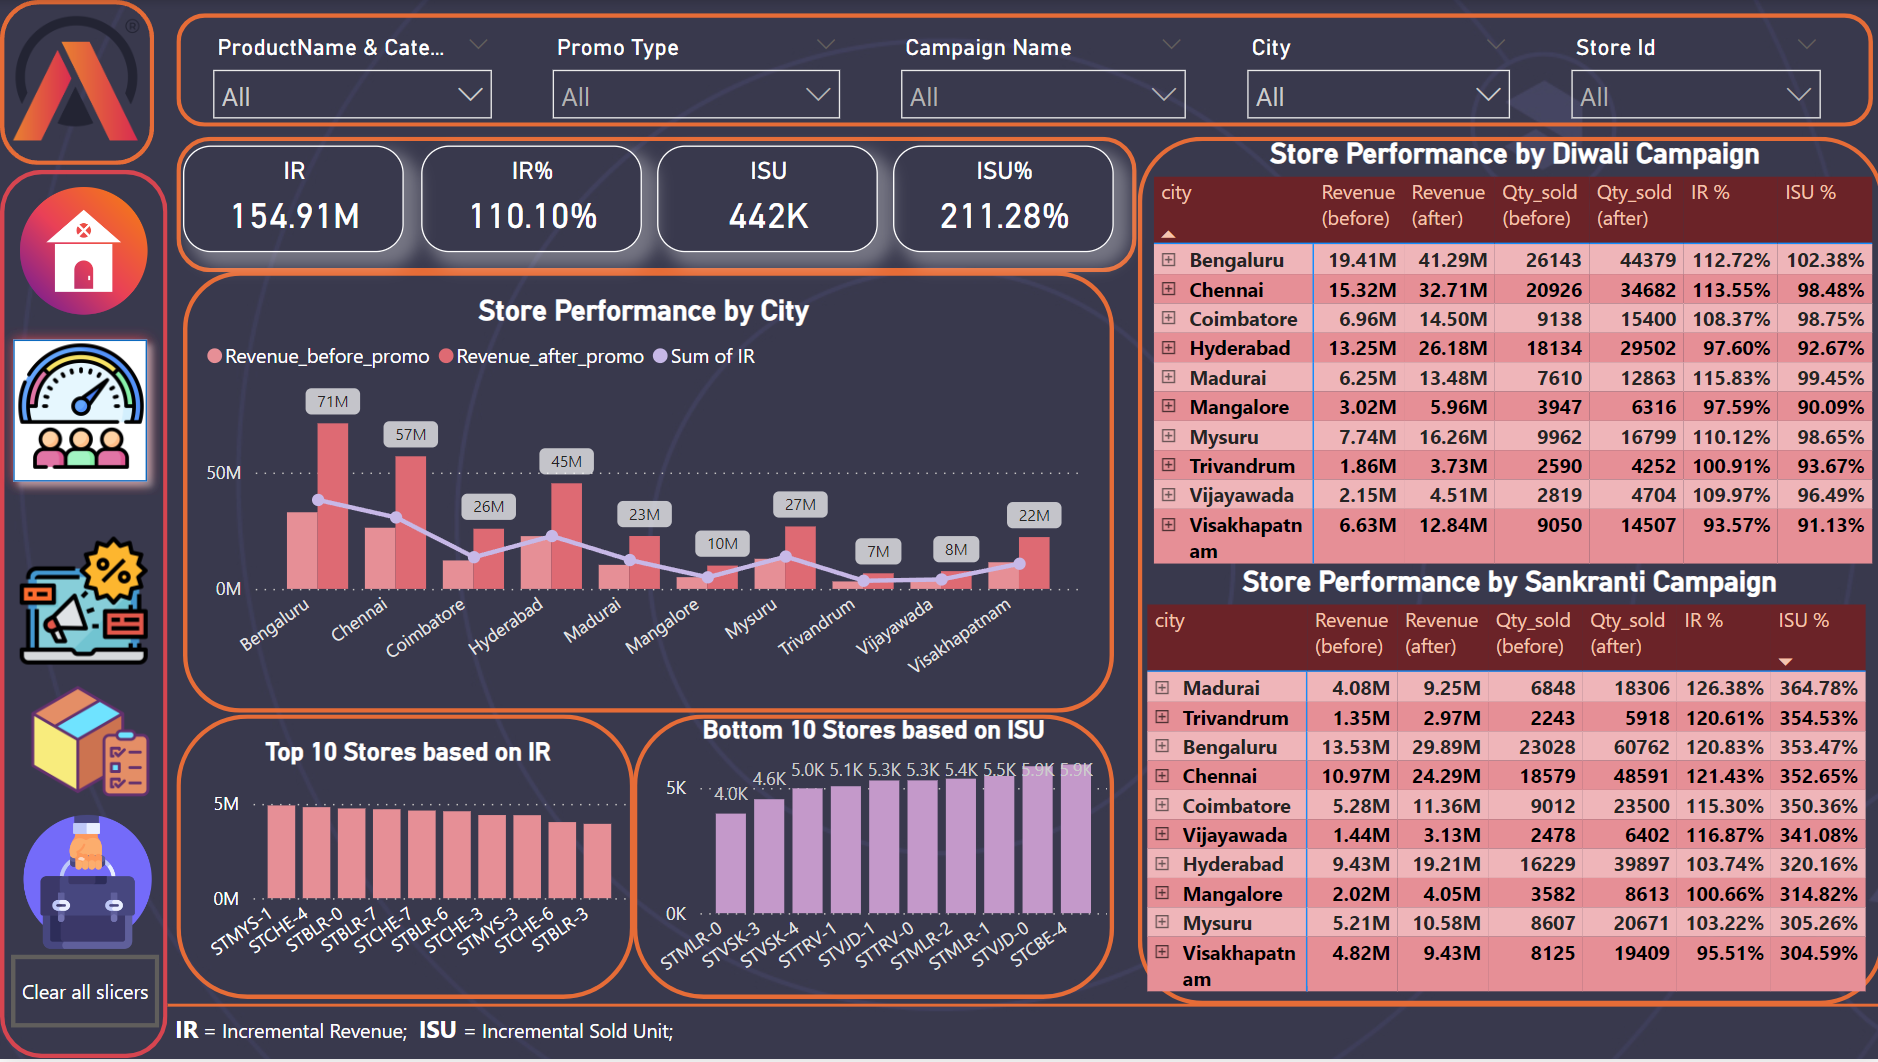

The page's visual inventory and layout, read from the dashboard file:
{"tool":"powerbi","page":{"name":"Store Performance Analysis","canvas":[1280,720],"ordinal":1},"visuals":[{"type":"shape","box":[773.2,92.5,507.6,590.6],"z":0},{"type":"shape","box":[430.6,486.3,327.3,193.5],"z":1000},{"type":"shape","box":[0,115.8,113.9,604.1],"z":2000},{"type":"shape","box":[119.3,486.3,311.4,193.5],"z":3000},{"type":"shape","box":[0,221.7,109,114.6],"z":4000},{"type":"shape","box":[119.6,9.2,1153.6,77.3],"z":5000},{"type":"shape","box":[124.8,184.5,633,300.2],"z":6000},{"type":"shape","box":[0,0,104.9,112.2],"z":7000},{"type":"slicer","fields":{"Values":["dim_products.category","dim_products.product_name"]},"box":[134.3,18.4,209.7,68.1],"z":8000},{"type":"slicer","fields":{"Values":["fact_events.promo_type"]},"box":[365.7,18.4,215.3,68.1],"z":9000},{"type":"slicer","fields":{"Values":["dim_campaign.campaign_name"]},"box":[602.6,18.4,213.4,68.1],"z":10000},{"type":"slicer","fields":{"Values":["dim_stores.city"]},"box":[837.6,18.4,198.7,68.1],"z":11000},{"type":"slicer","fields":{"Values":["dim_stores.store_id"]},"box":[1057.9,18.4,189.5,68.1],"z":12000},{"type":"image","box":[3.6,3.6,99.5,99.5],"z":13000},{"type":"image","box":[7.6,108.4,98.9,125.6],"z":14000},{"type":"image","box":[7.6,224.5,95.1,102.7],"z":15000},{"type":"image","box":[7.6,359.6,98.9,97],"z":16000},{"type":"image","box":[11.4,456.6,98.9,93.2],"z":17000},{"type":"actionButton","box":[7.6,648.8,100.8,49.5],"z":18000},{"type":"clusteredColumnChart","title":"Top 10 Stores based on IR","fields":{"Y":["Sum(fact_events.IR)"],"Category":["dim_stores.store_id"]},"box":[124.6,500.9,306.1,163],"z":19000},{"type":"columnChart","title":"Bottom 10 Stores based on ISU","fields":{"Category":["dim_stores.store_id"],"Y":["Sum(fact_events.ISU)"]},"box":[430.5,486.5,327.4,197.1],"z":20000},{"type":"lineClusteredColumnComboChart","title":"Store Performance by City","fields":{"Category":["dim_stores.city","dim_stores.store_id"],"Y":["Key_measures.Revenue_before_promo","Key_measures.Revenue_after_promo"],"Y2":["Sum(fact_events.IR)"]},"box":[134.9,199.4,605.7,272.9],"z":21000},{"type":"pivotTable","title":"Store Performance by Diwali Campaign","fields":{"Rows":["dim_stores.city","dim_stores.store_id"],"Values":["Key_measures.Revenue_before_promo","Key_measures.Revenue_after_promo","Sum(fact_events.quantity_sold(before_promo))","Sum(fact_events.quantity_sold(after_promo))","Key_measures.IR %","Key_measures.ISU %"]},"box":[779.6,92.2,501,296.6],"z":22000},{"type":"shape","box":[119.4,92.2,652.9,92.2],"z":23000},{"type":"card","title":"IR","fields":{"Values":["Sum(fact_events.IR)"]},"box":[124.8,99.5,150,72.3],"z":24000},{"type":"card","title":"IR%","fields":{"Values":["Key_measures.IR %"]},"box":[285.7,99.5,150,72.3],"z":25000},{"type":"card","title":"ISU","fields":{"Values":["Sum(fact_events.ISU)"]},"box":[446.7,99.5,150.1,72.3],"z":26000},{"type":"card","title":"ISU%","fields":{"Values":["Key_measures.ISU %"]},"box":[607.7,99.5,150.1,72.3],"z":27000},{"type":"shape","box":[114,648,1166,71.6],"z":28000},{"type":"textbox","box":[114,683.7,479.8,36],"z":29000},{"type":"image","box":[9,542.6,101.3,113.9],"z":30000},{"type":"pivotTable","title":"Store Performance by Sankranti Campaign","fields":{"Rows":["dim_stores.city","dim_stores.store_id"],"Values":["Key_measures.Revenue_before_promo","Key_measures.Revenue_after_promo","Sum(fact_events.quantity_sold(before_promo))","Sum(fact_events.quantity_sold(after_promo))","Key_measures.IR %","Key_measures.ISU %"]},"box":[775.6,384.2,502.8,296.5],"z":31000}]}

Visuals, with their boxes on the page's 1280x720 design canvas (x1, y1, x2, y2). These are canvas units, not pixel positions in the 1878x1062 screenshot, which may show the page scaled, cropped or inside an application window:
shape: bbox(773, 92, 1281, 683)
shape: bbox(431, 486, 758, 680)
shape: bbox(0, 116, 114, 720)
shape: bbox(119, 486, 431, 680)
shape: bbox(0, 222, 109, 336)
shape: bbox(120, 9, 1273, 86)
shape: bbox(125, 184, 758, 485)
shape: bbox(0, 0, 105, 112)
slicer - dim_products.category x dim_products.product_name: bbox(134, 18, 344, 86)
slicer - fact_events.promo_type: bbox(366, 18, 581, 86)
slicer - dim_campaign.campaign_name: bbox(603, 18, 816, 86)
slicer - dim_stores.city: bbox(838, 18, 1036, 86)
slicer - dim_stores.store_id: bbox(1058, 18, 1247, 86)
image: bbox(4, 4, 103, 103)
image: bbox(8, 108, 106, 234)
image: bbox(8, 224, 103, 327)
image: bbox(8, 360, 106, 457)
image: bbox(11, 457, 110, 550)
actionButton: bbox(8, 649, 108, 698)
"Top 10 Stores based on IR" clusteredColumnChart: bbox(125, 501, 431, 664)
"Bottom 10 Stores based on ISU" columnChart: bbox(430, 486, 758, 684)
"Store Performance by City" lineClusteredColumnComboChart: bbox(135, 199, 741, 472)
"Store Performance by Diwali Campaign" pivotTable: bbox(780, 92, 1281, 389)
shape: bbox(119, 92, 772, 184)
"IR" card: bbox(125, 100, 275, 172)
"IR%" card: bbox(286, 100, 436, 172)
"ISU" card: bbox(447, 100, 597, 172)
"ISU%" card: bbox(608, 100, 758, 172)
shape: bbox(114, 648, 1280, 720)
textbox: bbox(114, 684, 594, 720)
image: bbox(9, 543, 110, 656)
"Store Performance by Sankranti Campaign" pivotTable: bbox(776, 384, 1278, 681)
